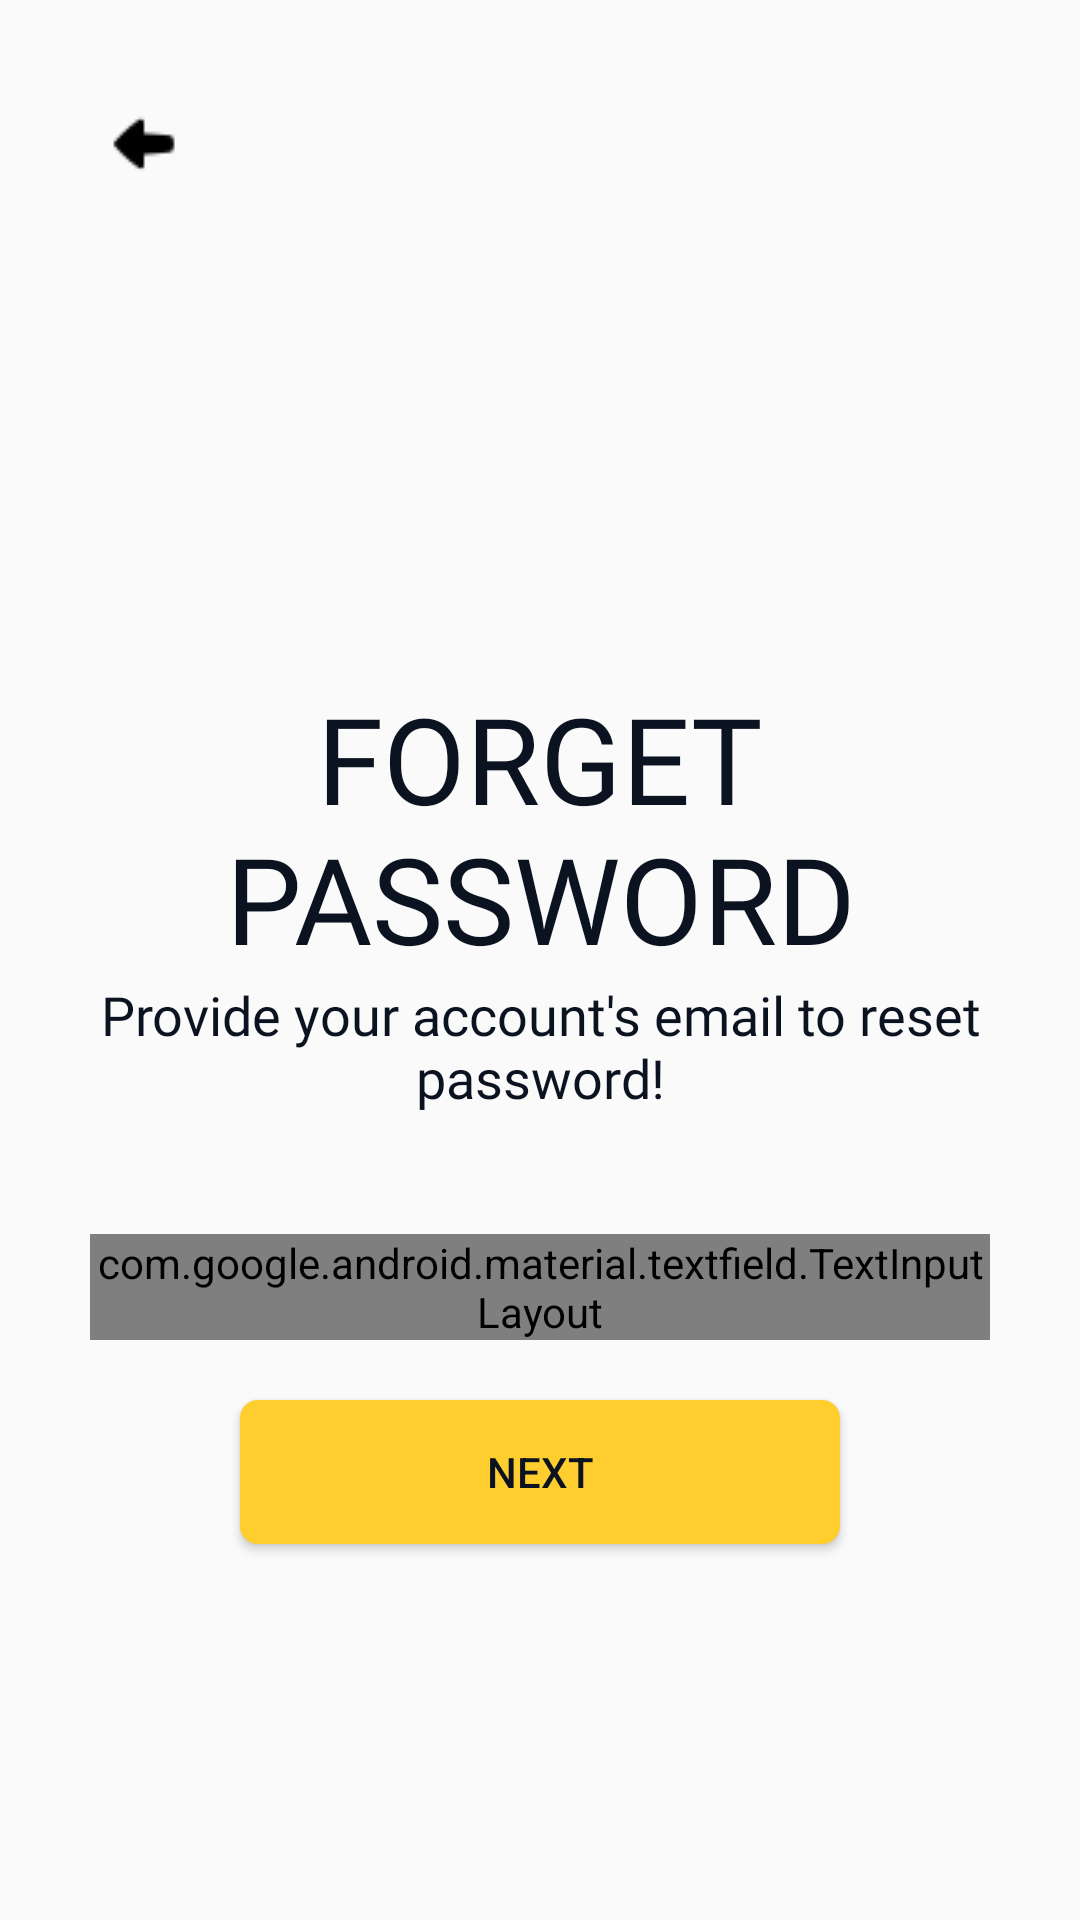

Icon click points for this 1080w x 1920h phone screenshot, format point (x, y):
back: point (144, 143)
